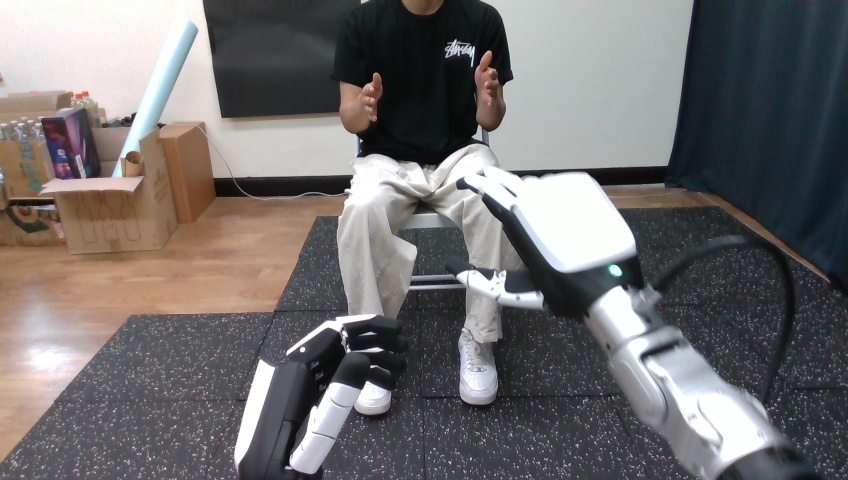left robot hand: (448, 166, 815, 478), (234, 314, 407, 478)
